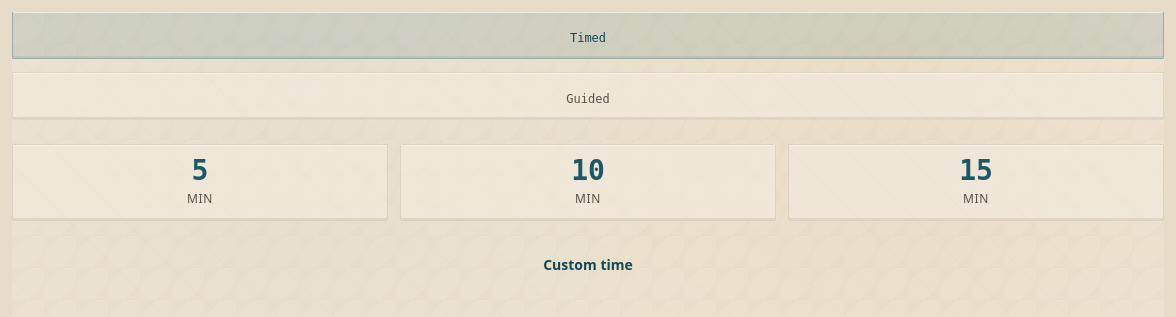
TimerCore dashboard mode › shows pause button while running and hides it on pause
Click the button with test id "meditation-preset-5".
click(200, 183)  # box [12,144,388,221]
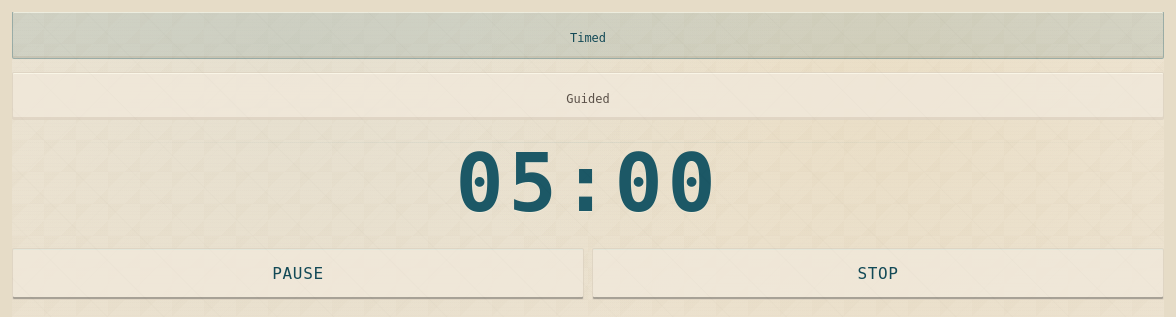
Now the button with test id "timer-pause" is shown
Click the button with test id "timer-pause".
click(298, 274)  # box [12,248,584,300]
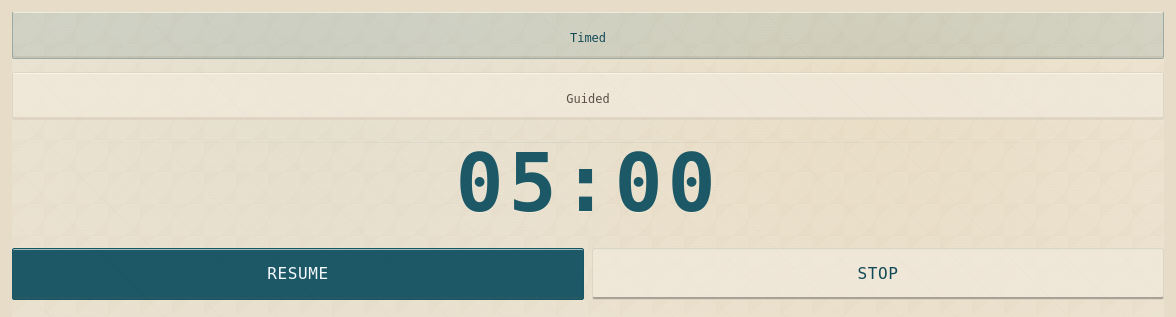
Now the button with test id "timer-pause" is gone
Now the button with test id "timer-resume" is shown, box [12,248,584,300]
